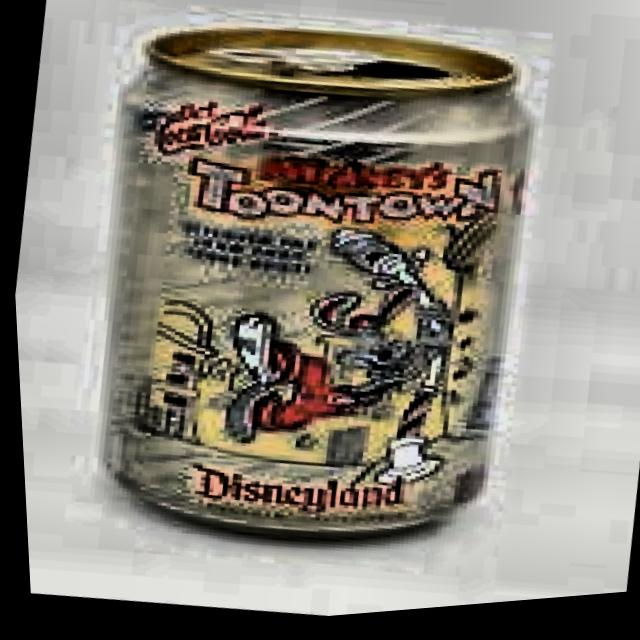Cans: (15, 0, 560, 611)
